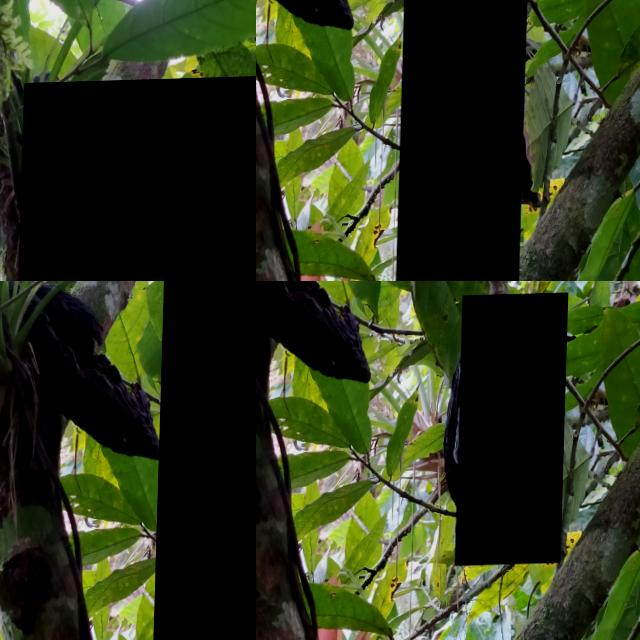Fitoftora: (18, 72, 256, 281), (153, 281, 256, 640), (399, 0, 530, 281), (458, 296, 570, 568)
Sana: (268, 0, 399, 95)
